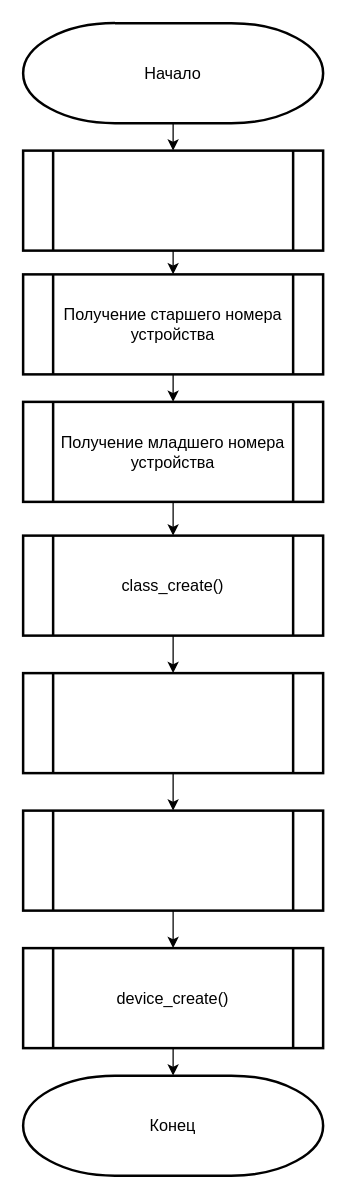
Image size: 345x1198. Some labels were removed from this diagram. The shapes that lost their labels are listed below. From the top down, each one's centre as x and y in pixels, then its label:
the point at 172,200: alloc_chrdev_region()
the point at 172,722: cdev_init()
the point at 172,860: cdev_add()
